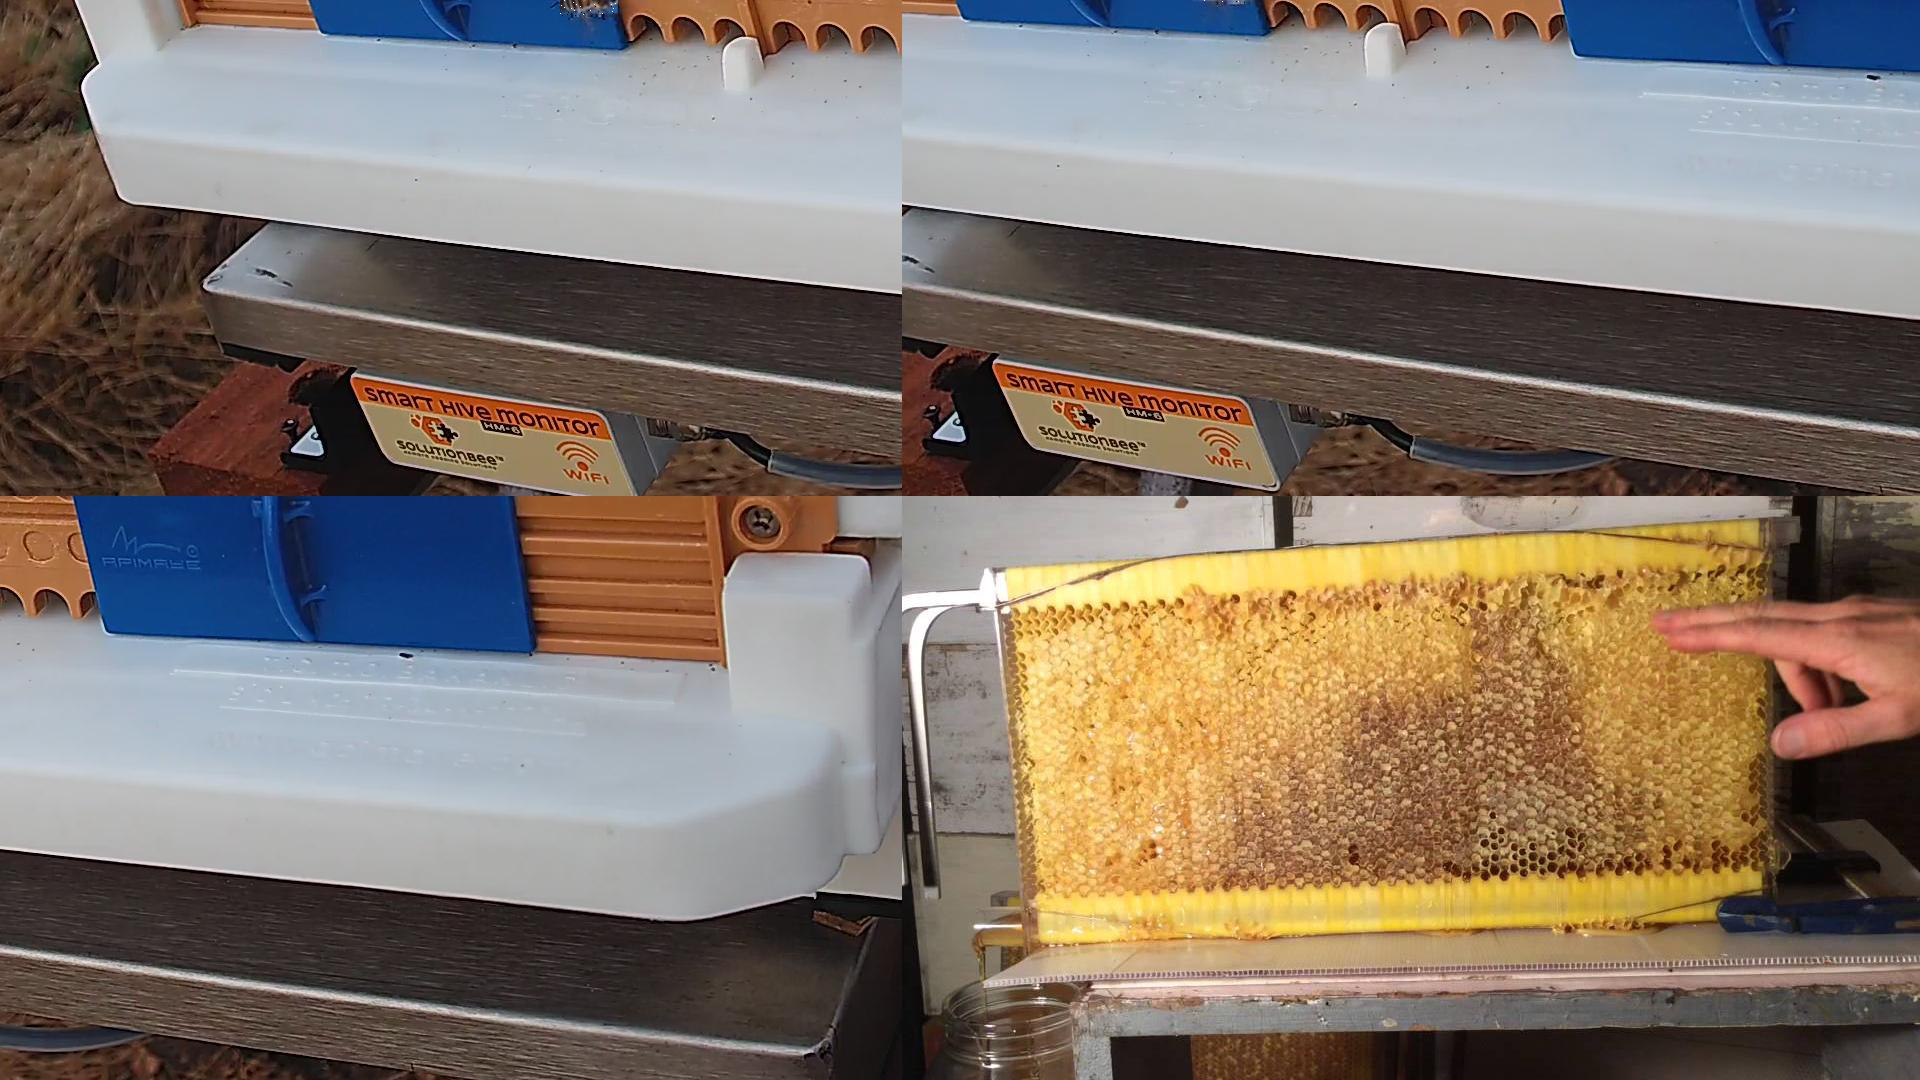bee: (560, 0, 620, 18), (1193, 0, 1255, 5)
